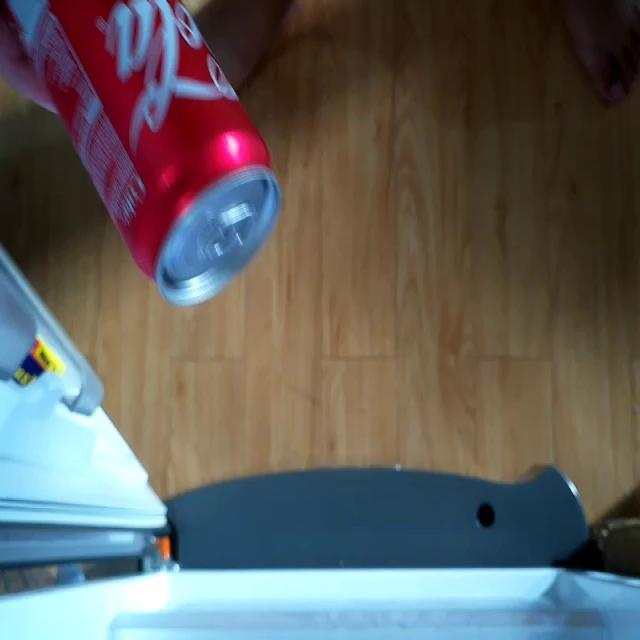coke: (6, 2, 283, 315)
